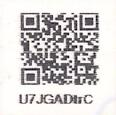QR-CODE: (16, 9, 102, 88)
